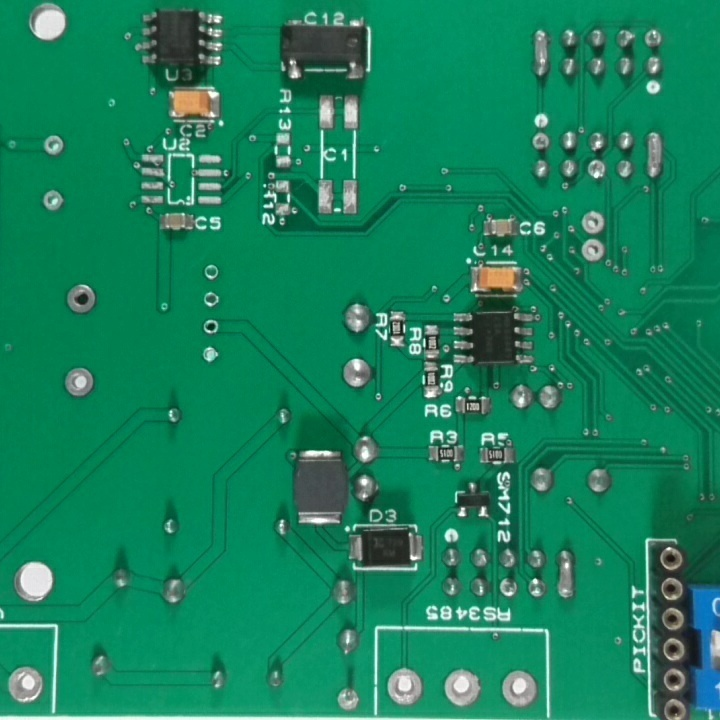F: (383, 664, 430, 712), (499, 666, 545, 712), (440, 664, 485, 711), (6, 661, 48, 708), (64, 279, 101, 318), (61, 363, 97, 401), (333, 685, 364, 713), (579, 208, 610, 236), (577, 237, 609, 264), (40, 133, 67, 161), (39, 189, 67, 214), (498, 573, 521, 603), (584, 158, 610, 183), (643, 26, 667, 50), (530, 129, 553, 154), (201, 288, 224, 312), (199, 346, 224, 366), (202, 318, 224, 339), (201, 263, 221, 283)
P: (553, 543, 579, 606), (642, 129, 670, 186), (528, 26, 553, 84)
